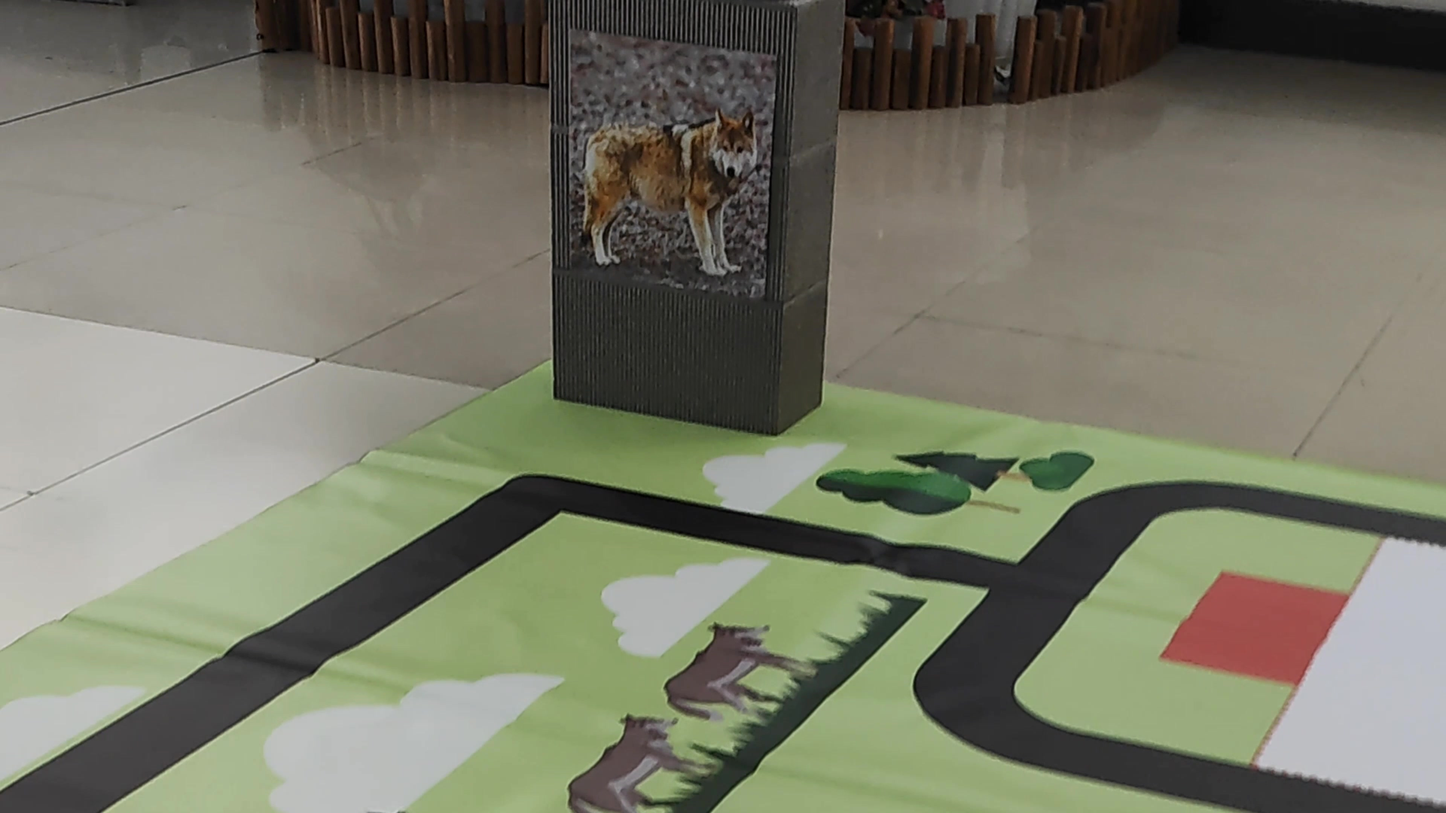wolf: (573, 84, 757, 276)
